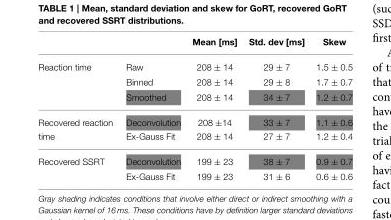table: (37, 37, 351, 180)
table column: (37, 37, 118, 180), (118, 37, 185, 180), (242, 37, 309, 180), (185, 37, 242, 180), (309, 37, 351, 180)
table column header: (37, 37, 351, 54)
table row: (37, 54, 351, 74), (37, 89, 351, 109), (37, 109, 351, 129), (37, 148, 351, 168), (37, 129, 351, 148), (37, 37, 351, 54), (37, 74, 351, 89), (37, 168, 351, 180)
table spanning cell: (37, 54, 118, 109), (37, 109, 118, 148), (37, 148, 118, 180)
